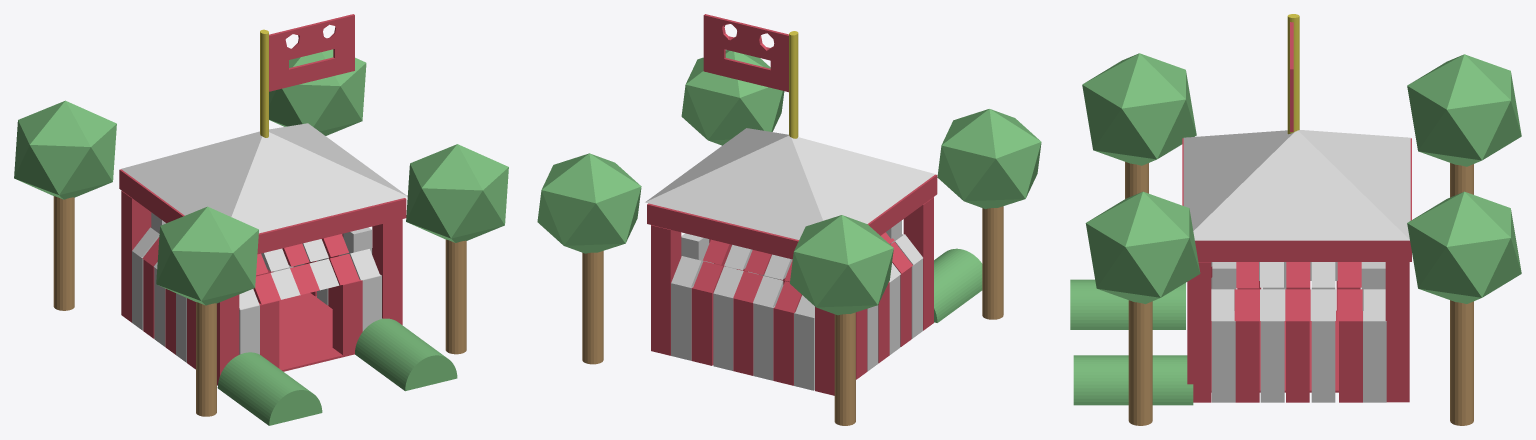
File: Copy of Circus.glb
The picture shows the model from 3 angles, left to right: view 1: azimuth 30°, elevation 25°; view 2: azimuth 150°, elevation 25°; view 3: azimuth 270°, elevation 25°; orthographic projection. The views are drawn at different scales.
Parts seen in each view (by area): view 1: Mesh_Mesh_head_geo.001_lambert2SG.001; view 2: Mesh_Mesh_head_geo.001_lambert2SG.001; view 3: Mesh_Mesh_head_geo.001_lambert2SG.001.
Part boxes in pixels (x1,y1,x2,y2): Mesh_Mesh_head_geo.001_lambert2SG.001: (14, 14, 508, 425); Mesh_Mesh_head_geo.001_lambert2SG.001: (537, 14, 1041, 425); Mesh_Mesh_head_geo.001_lambert2SG.001: (1070, 14, 1521, 425).
Size of the model in its own units: 0.3692 by 0.311 by 0.378.
